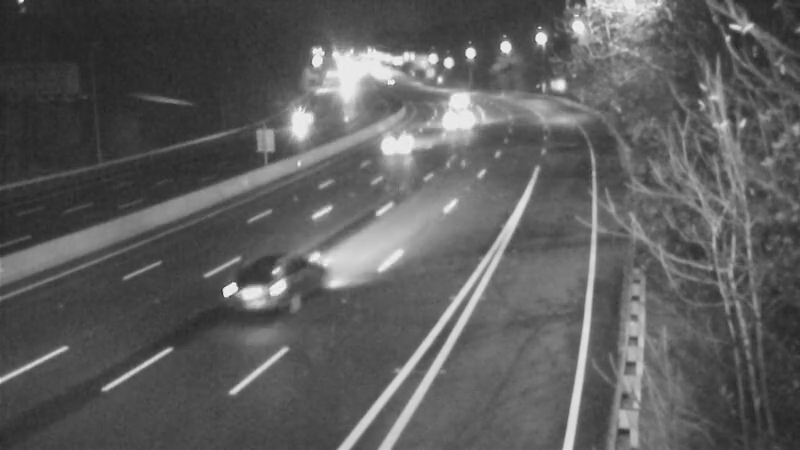vehicle: (202, 259, 282, 339), (429, 71, 479, 121), (433, 97, 483, 147), (366, 121, 416, 171), (268, 102, 318, 152)
